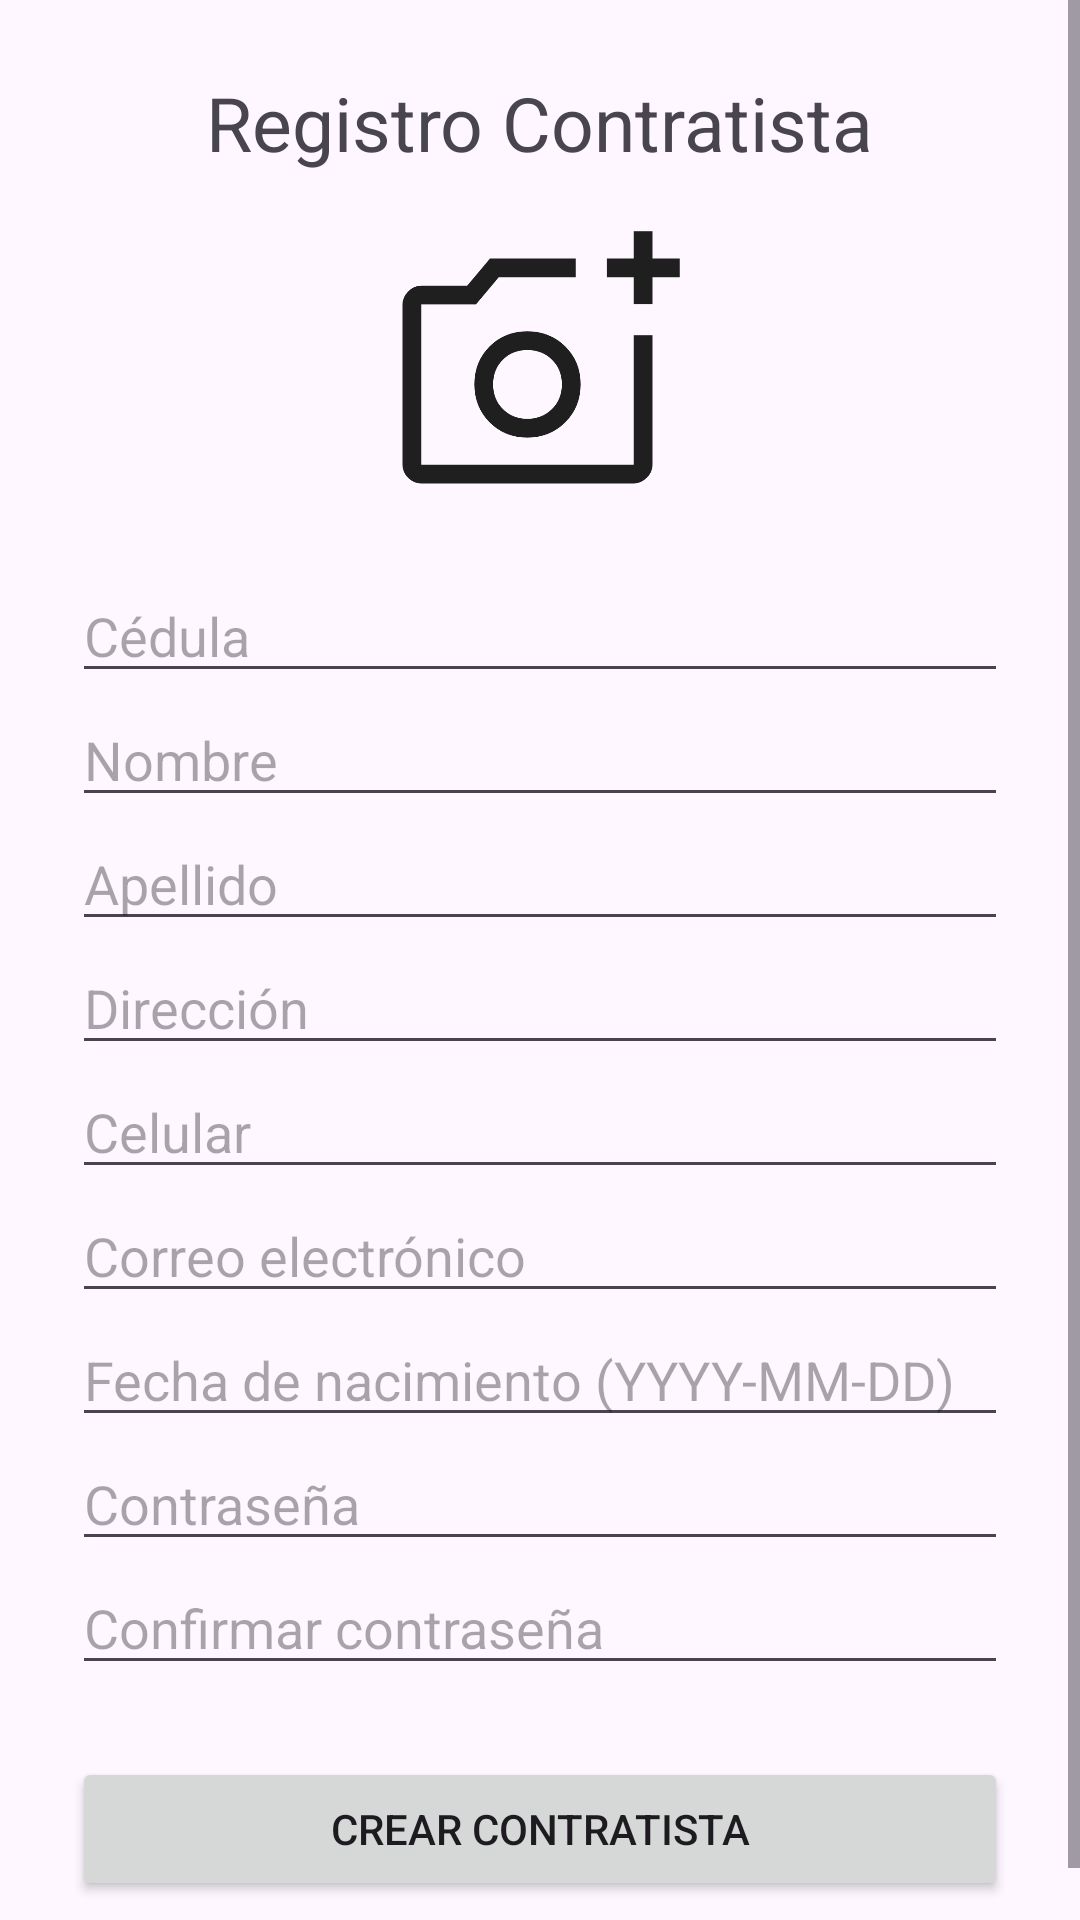

Locate icon controls on the screen. Image size 1080 × 1920, boxes as {"left": x1, "top": y1, "right": x2, "bottom": y2}.
addphoto: {"left": 402, "top": 231, "right": 680, "bottom": 484}
